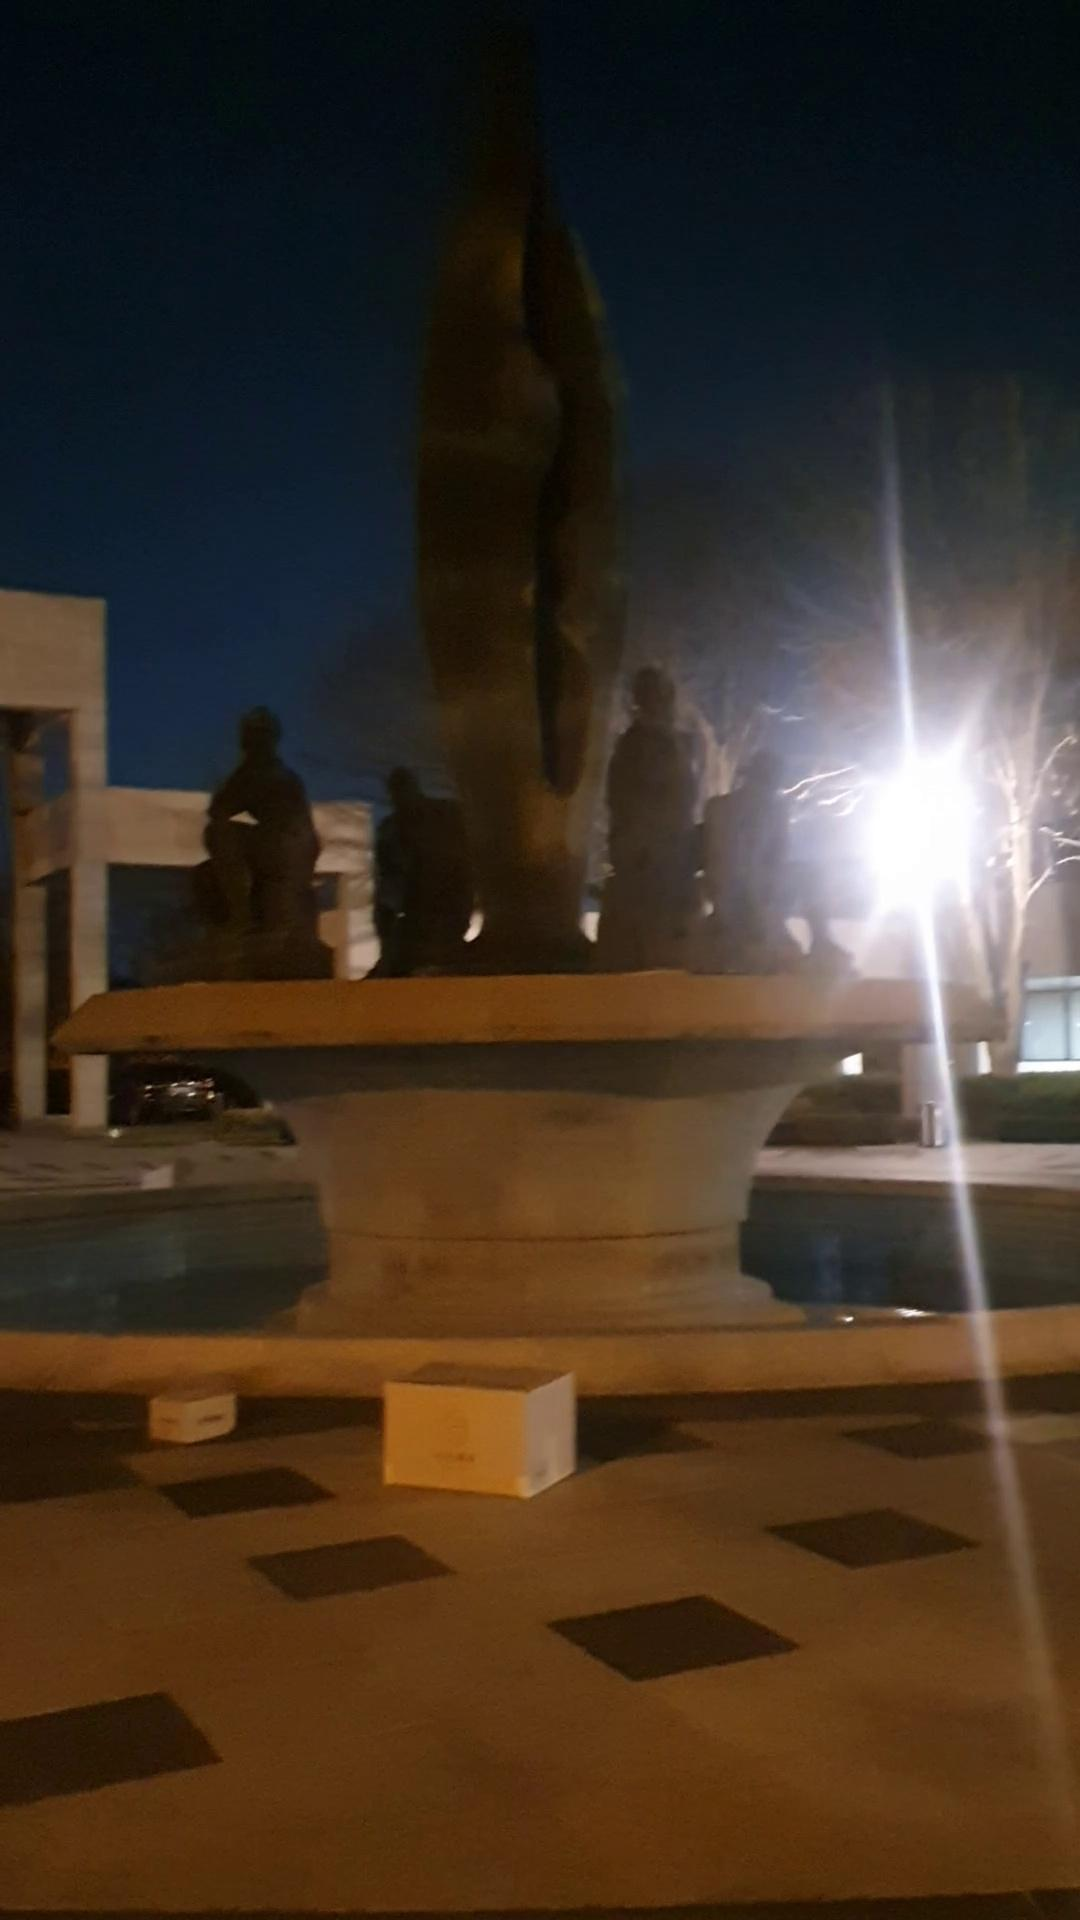Box: (373, 1350, 585, 1507), (138, 1365, 247, 1451)
